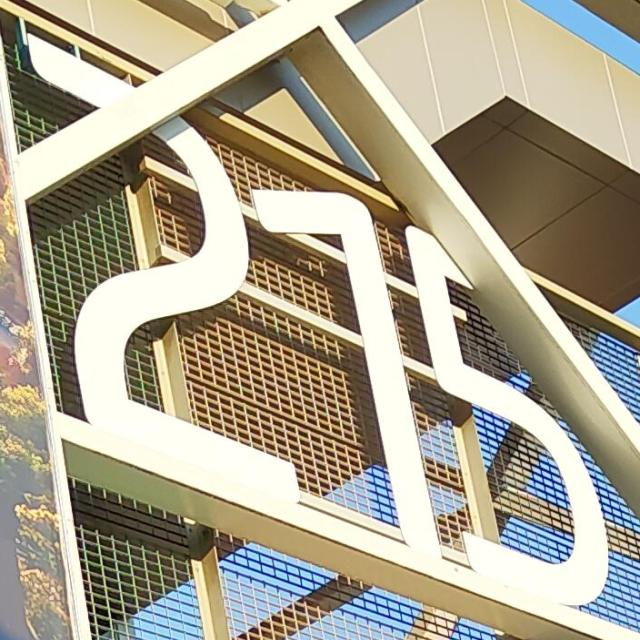character: (20, 27, 308, 513), (402, 218, 616, 614), (249, 178, 450, 568)
